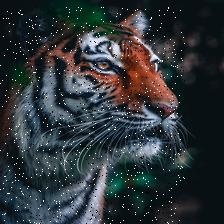tiger: (0, 7, 185, 224)
